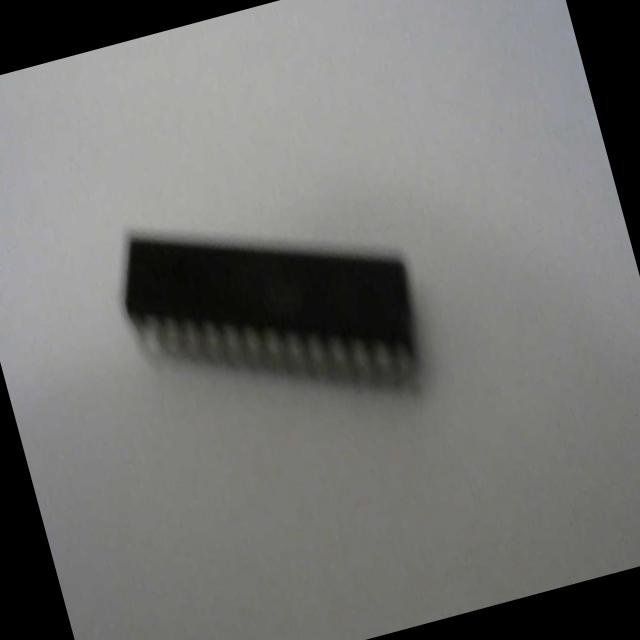atmega: (100, 158, 440, 460)
